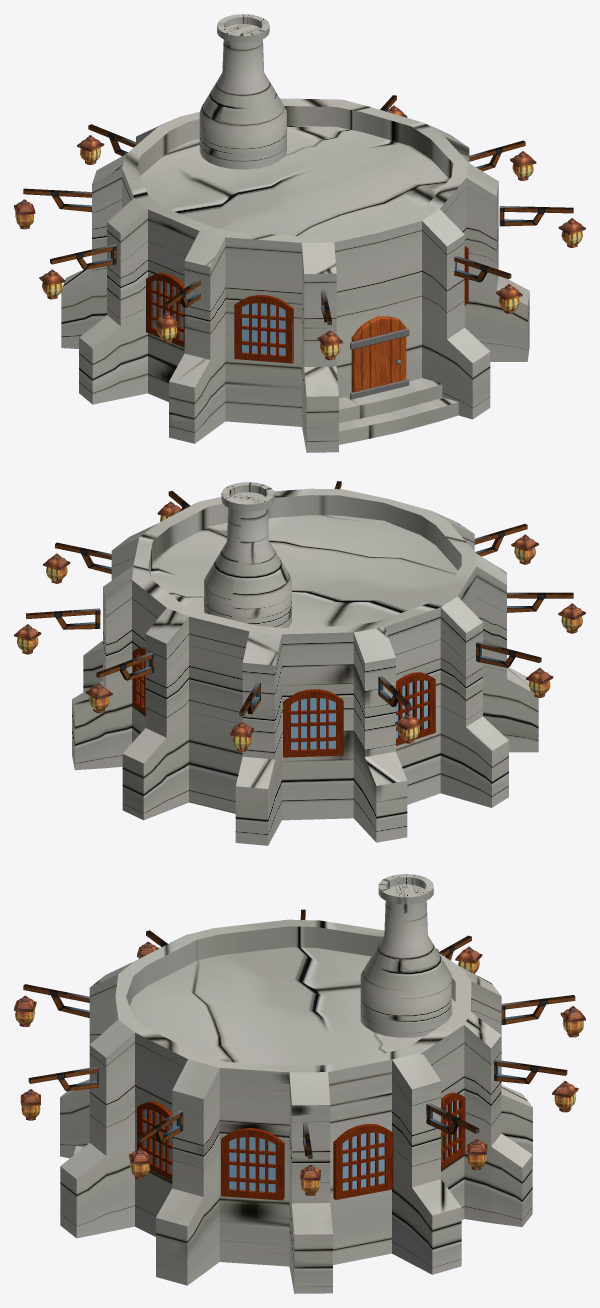
The model's file is DAV_SaraIglesias 1.fbx.
3 views of the same model, one above another, from view 1: azimuth 30°, elevation 25°; view 2: azimuth 150°, elevation 25°; view 3: azimuth 270°, elevation 25° (orthographic). The views are drawn at different scales.
Visible parts, largest first — view 1: Herrería, lamparasfin, Ventanas, puerta; view 2: Herrería, lamparasfin, Ventanas; view 3: Herrería, Ventanas, lamparasfin.
Part boxes in pixels (box(x1,y1,x2,y2)): Herrería: box(61, 14, 529, 452); lamparasfin: box(14, 95, 585, 360); Ventanas: box(146, 246, 468, 363); puerta: box(350, 316, 409, 399); Herrería: box(72, 482, 538, 845); lamparasfin: box(14, 481, 585, 751); Ventanas: box(132, 647, 435, 757); Herrería: box(60, 874, 532, 1293); Ventanas: box(137, 1092, 465, 1200); lamparasfin: box(14, 909, 585, 1195).
Size of what is drawn, in the model's own units: 7179 by 4063 by 6843.
Materials: 41 (37 with a texture image).
